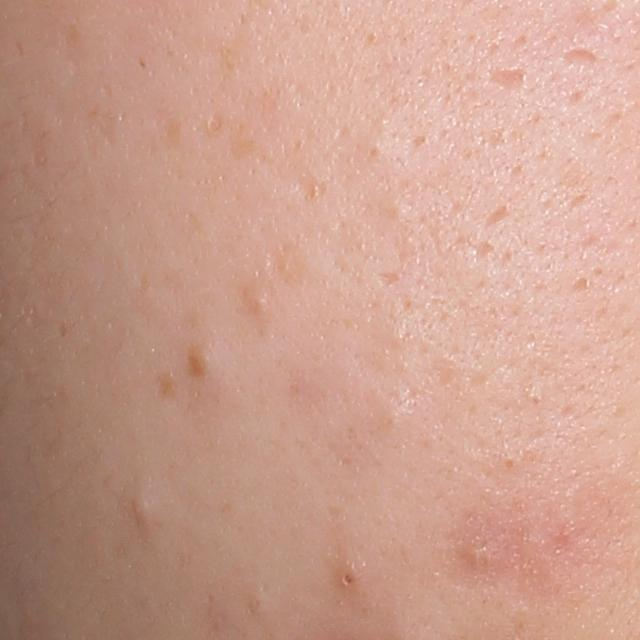atrophic_scar: (557, 44, 604, 72), (487, 65, 527, 95), (484, 202, 510, 230)
comedo: (182, 340, 213, 381), (238, 286, 272, 319), (130, 494, 156, 526), (336, 568, 362, 593), (250, 591, 273, 617), (502, 455, 518, 475)
papule: (456, 535, 496, 569)
